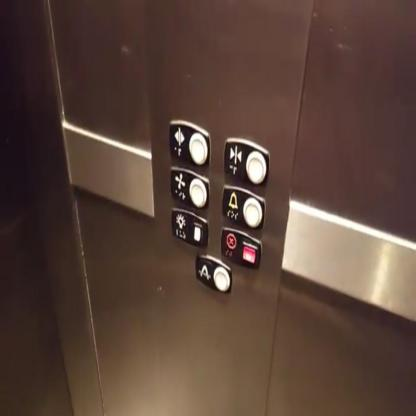alarm: (220, 183, 267, 233)
close: (222, 136, 270, 186)
fan: (168, 165, 211, 210)
light: (170, 206, 210, 250)
open: (168, 118, 212, 170)
stop: (218, 225, 263, 270)
unknown: (193, 250, 232, 296)
